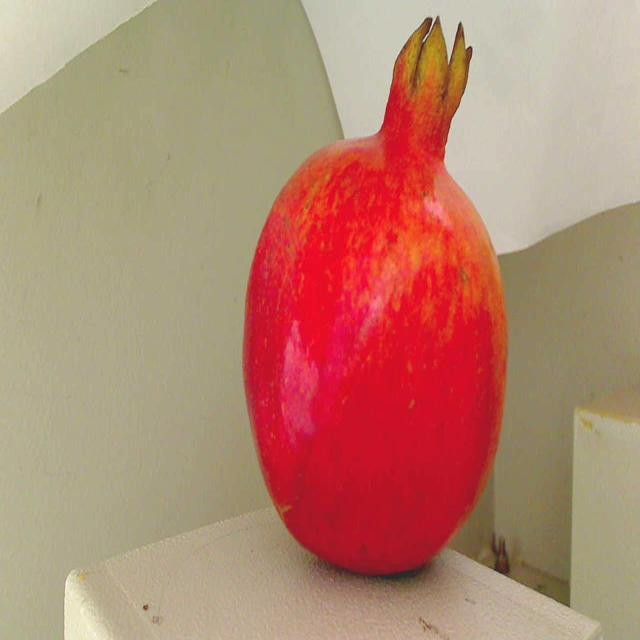pomegranate: (241, 20, 522, 596)
